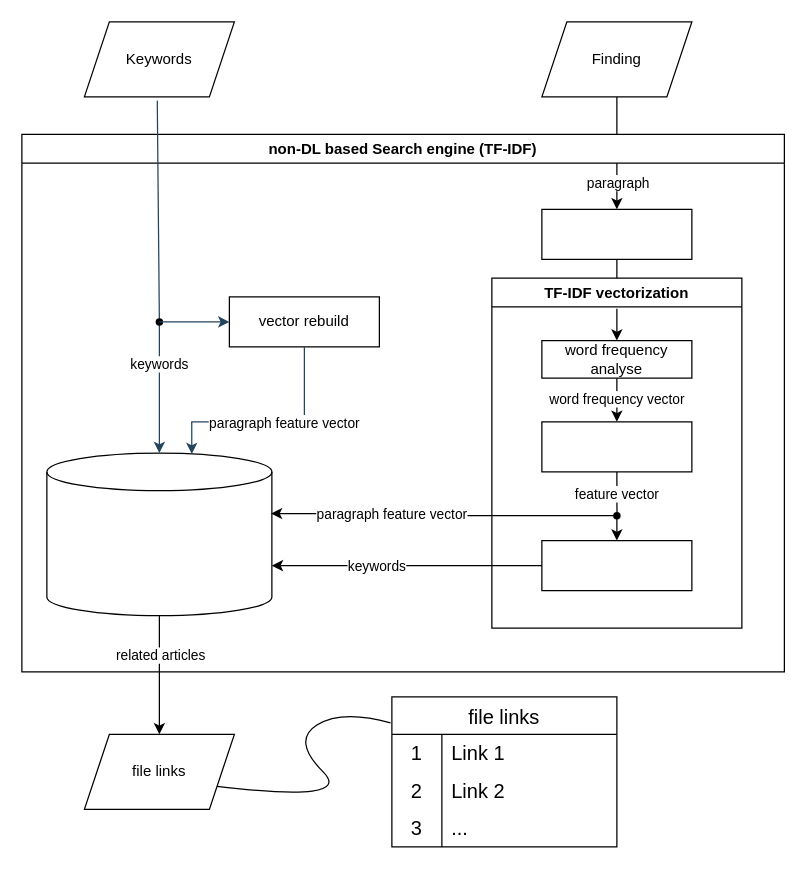
Image size: 806x869. Some labels were removed from this diagram. The box of each missing label's shape, as (x1, y1, x2, y2) in pixels:
Database: (46, 452, 272, 616)
keyword extraction: (541, 539, 692, 591)
TF-IDF weight extraction: (541, 421, 692, 472)
中文分词/tokenize: (541, 208, 692, 259)
